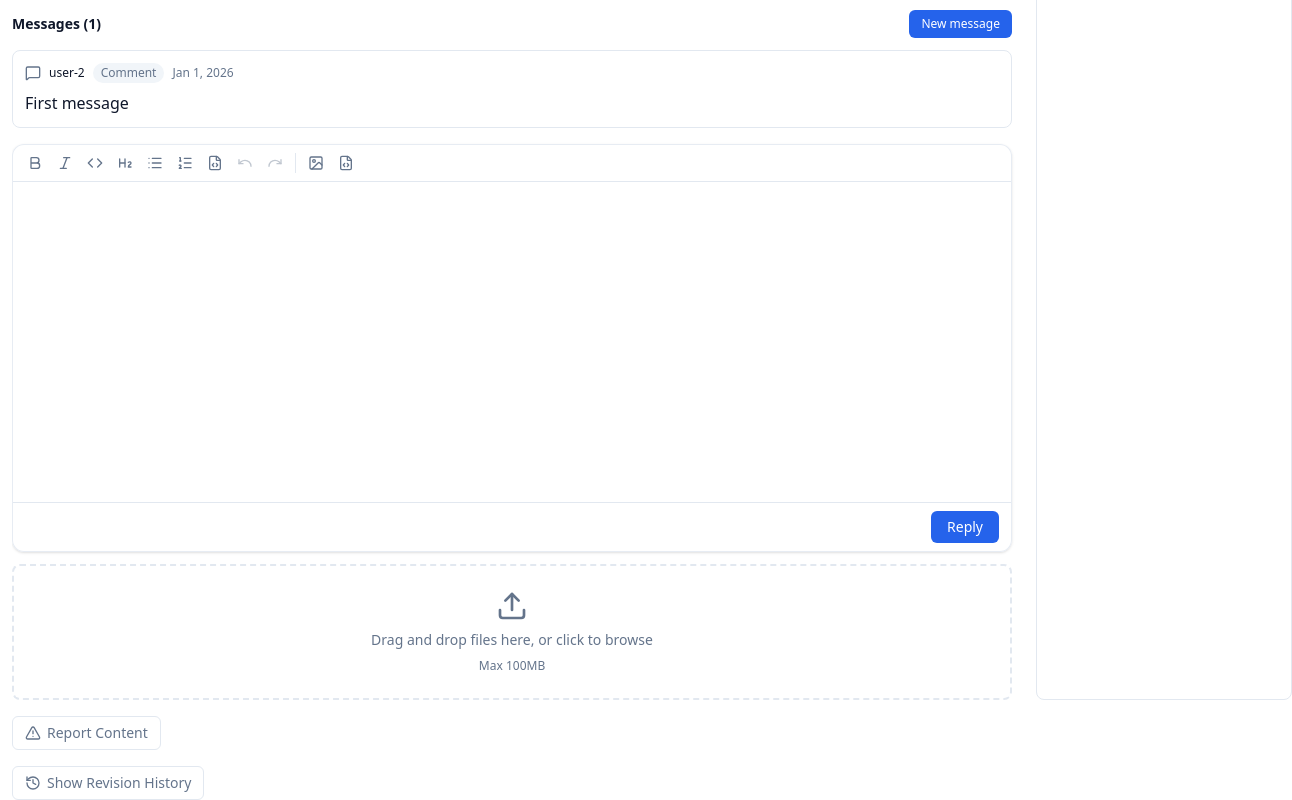
Scenario: ThreadDetailView › shows revision history when revision toggle is clicked
(page scrolled)
Click the button with test id "revision-toggle" at (108, 783), box x1=12 y1=766 x2=204 y2=799
(page scrolled)
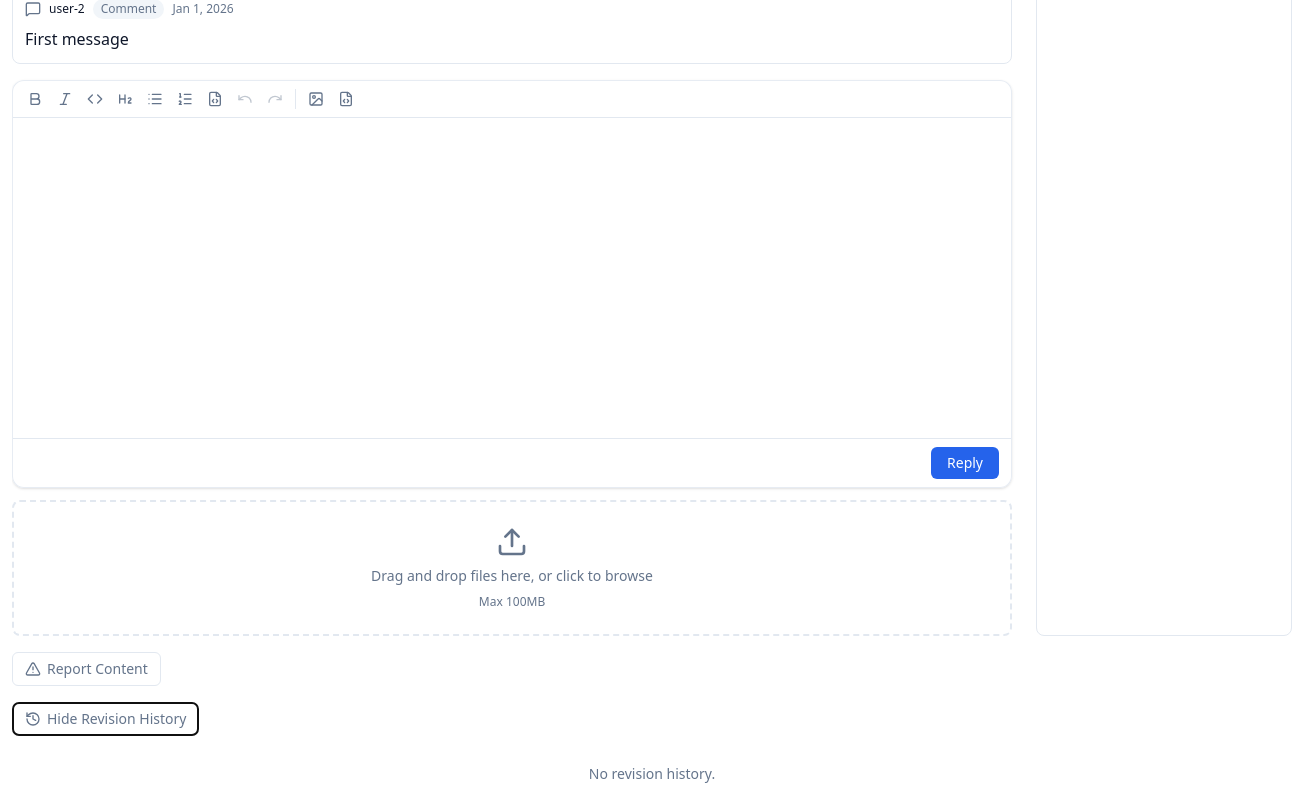
Check: the text "No revision history." is shown, box x1=589 y1=764 x2=715 y2=783
